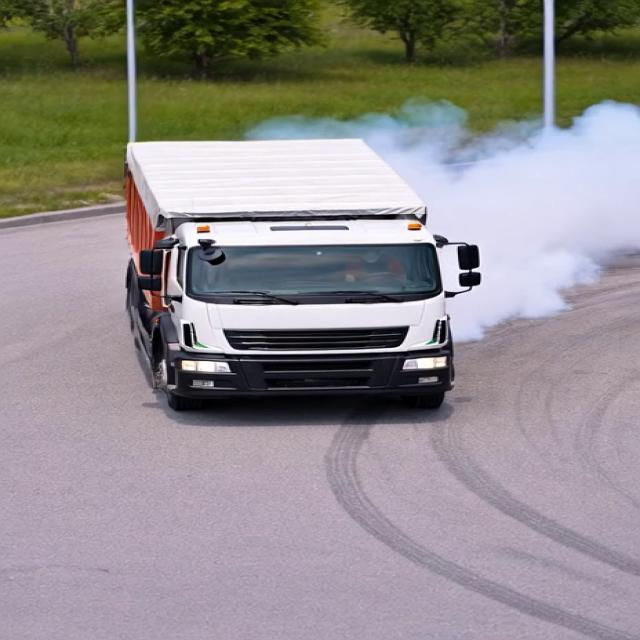Box: (103, 132, 428, 219)
Truck: (80, 99, 524, 423)
